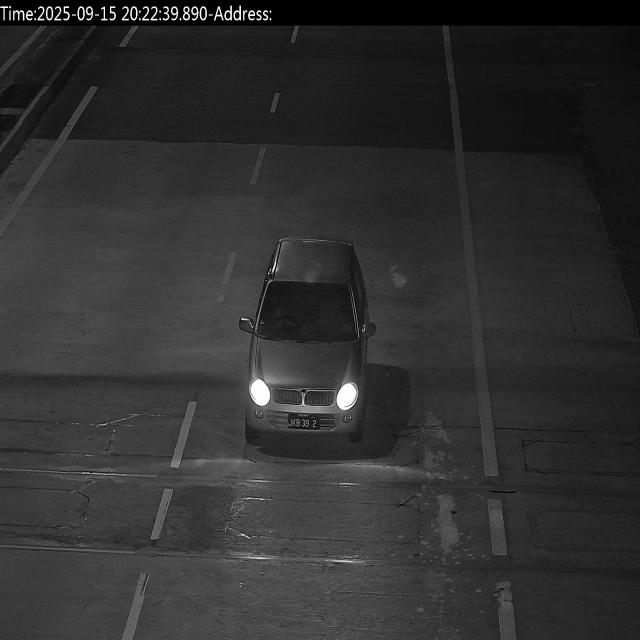front: (280, 401, 334, 441)
